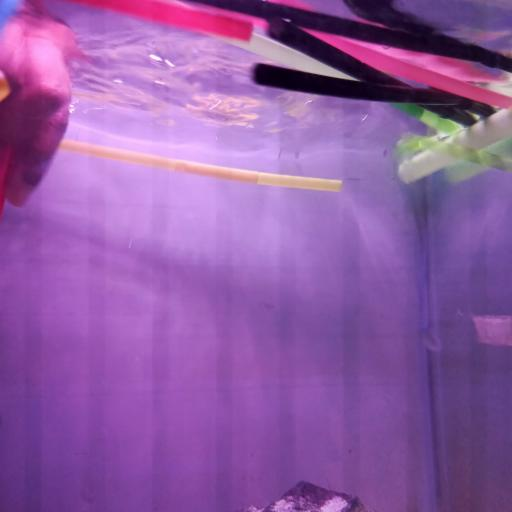plastic_straw: (192, 32, 454, 136), (181, 0, 511, 73), (262, 19, 477, 127), (300, 26, 512, 108), (60, 136, 344, 196), (248, 60, 495, 118), (398, 108, 512, 184), (57, 0, 254, 43), (406, 136, 512, 174)
